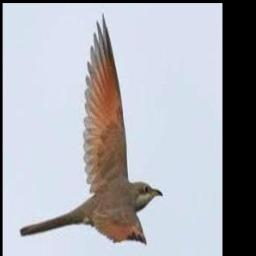Cuckoo: (21, 14, 163, 243)
